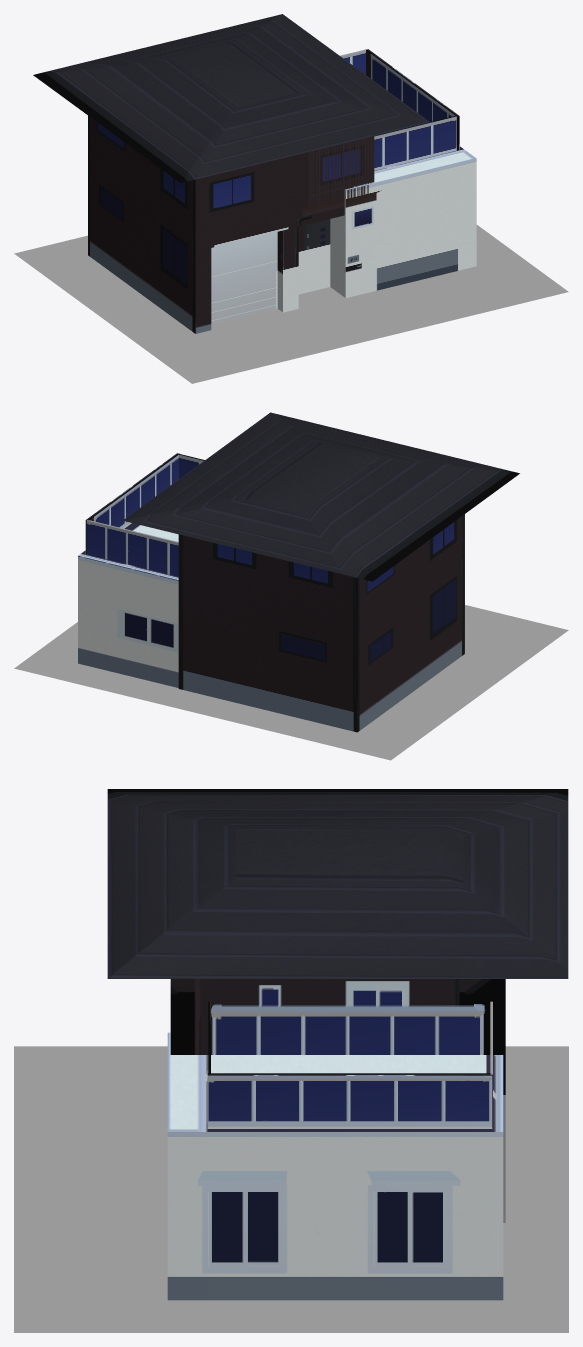
3 renders of one model, top to bottom at view 1: azimuth 30°, elevation 25°; view 2: azimuth 150°, elevation 25°; view 3: azimuth 270°, elevation 25°, orthographic. The views are drawn at different scales.
Parts seen in each view (by area): view 1: polySurface933; view 2: polySurface933; view 3: polySurface933.
Boxes of the visible parts, x1,y1,x2,y2 form: polySurface933: (14,14,568,383); polySurface933: (14,412,568,760); polySurface933: (14,789,568,1332).
Size of the model in its own units: 21.15 by 10.69 by 17.31.
Materials: 7 (5 with a texture image).
